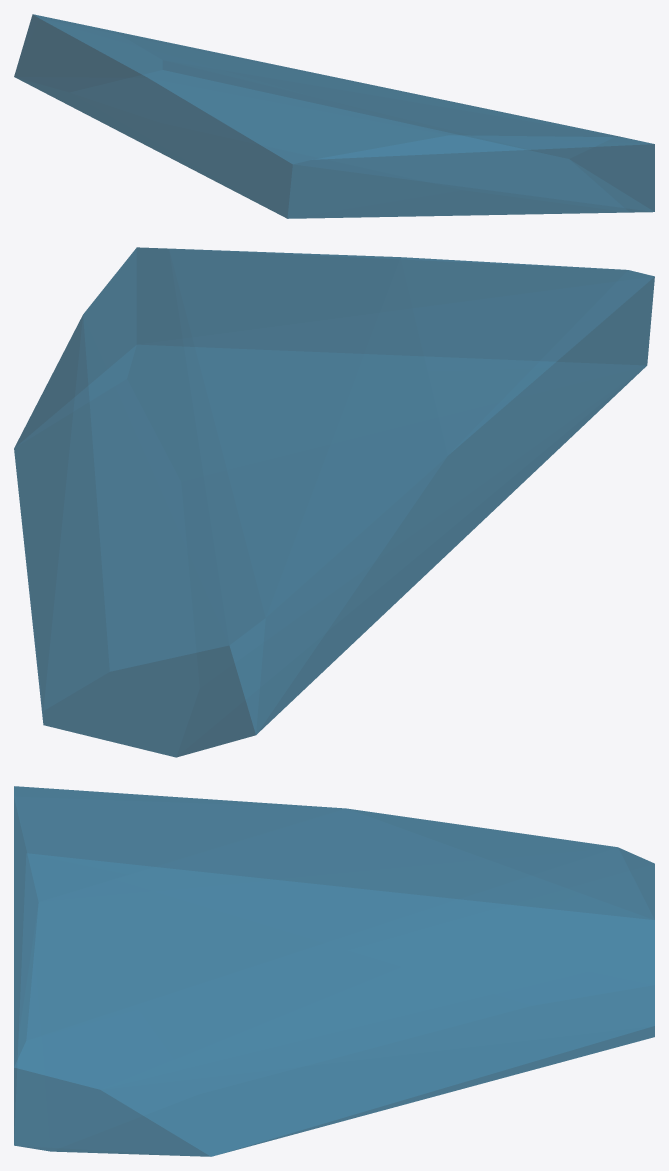
3 views of the same model, one above another, from view 1: azimuth 30°, elevation 25°; view 2: azimuth 150°, elevation 25°; view 3: azimuth 270°, elevation 25° (orthographic). The views are drawn at different scales.
Parts seen in each view (by area): view 1: Shape_IndexedFaceSet.066_Shape_IndexedFaceSet.6329; view 2: Shape_IndexedFaceSet.066_Shape_IndexedFaceSet.6329; view 3: Shape_IndexedFaceSet.066_Shape_IndexedFaceSet.6329.
Boxes of the visible parts, x1=… form: Shape_IndexedFaceSet.066_Shape_IndexedFaceSet.6329: x1=14, y1=14, x2=654, y2=218; Shape_IndexedFaceSet.066_Shape_IndexedFaceSet.6329: x1=14, y1=247, x2=654, y2=757; Shape_IndexedFaceSet.066_Shape_IndexedFaceSet.6329: x1=14, y1=786, x2=654, y2=1156.
Size of the model in its own units: 0.0927 by 0.0356 by 0.1236.
